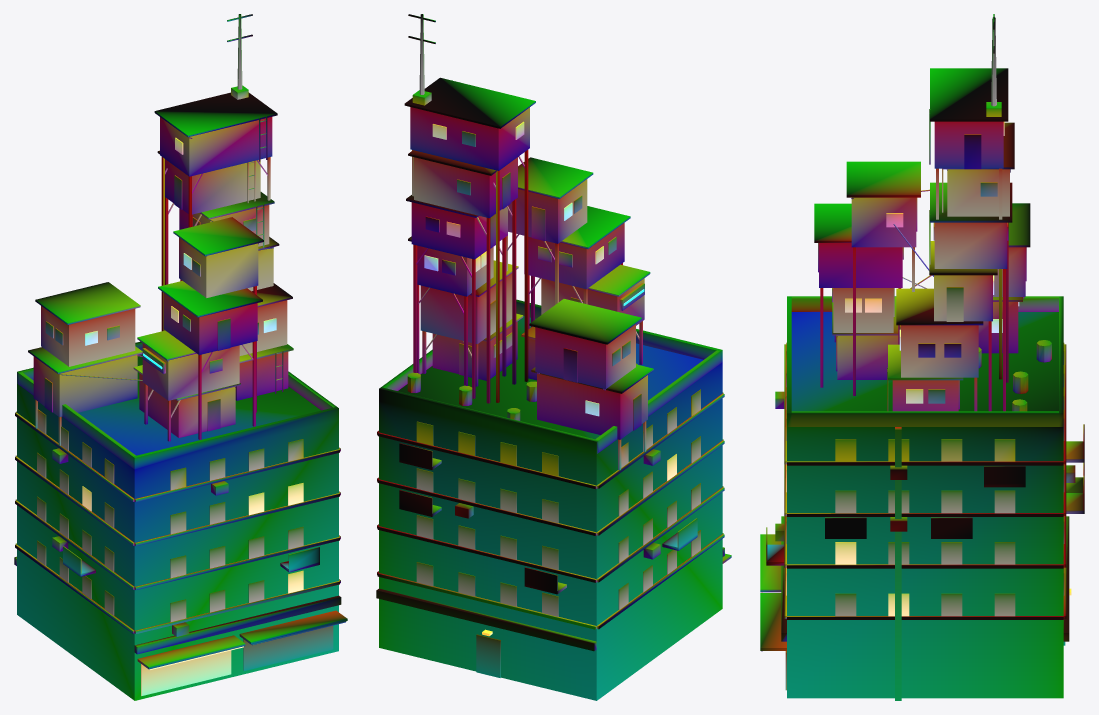
The model's file is Slum_Tower_V5.fbx.
3 renders of one model, left to right at view 1: azimuth 30°, elevation 25°; view 2: azimuth 150°, elevation 25°; view 3: azimuth 270°, elevation 25°, orthographic. The views are drawn at different scales.
Parts seen in each view (by area): view 1: Slum_Tower_V5_LOD0; view 2: Slum_Tower_V5_LOD0; view 3: Slum_Tower_V5_LOD0.
Part boxes in pixels (x1,y1,x2,y2): Slum_Tower_V5_LOD0: (14,14,347,700); Slum_Tower_V5_LOD0: (376,14,731,700); Slum_Tower_V5_LOD0: (760,14,1084,700).
Size of what is drawn, in the model's own units: 16.8 by 39.27 by 17.1.
